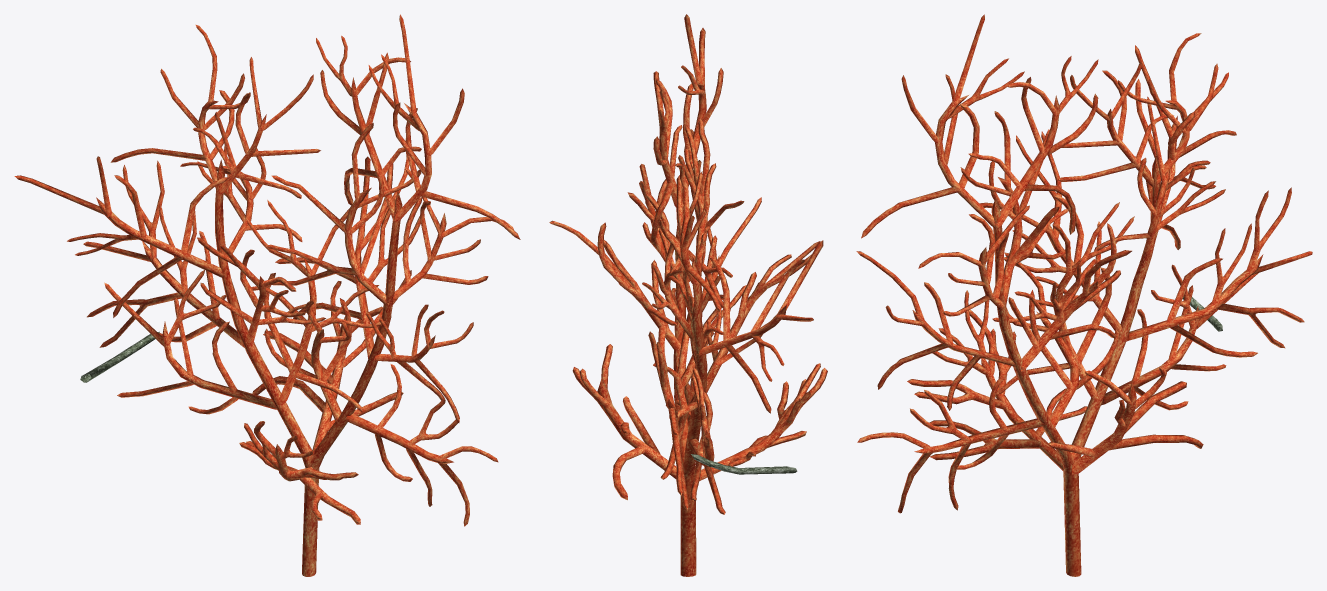
File: FanCoralCluster.010_FBX_still.fbx
The picture shows the model from 3 angles, left to right: view 1: azimuth 30°, elevation 25°; view 2: azimuth 150°, elevation 25°; view 3: azimuth 270°, elevation 25°; orthographic projection. The views are drawn at different scales.
Visible parts, largest first — view 1: FanCoralCluster.010_gameasset; view 2: FanCoralCluster.010_gameasset; view 3: FanCoralCluster.010_gameasset.
Boxes of the visible parts, left/top/right/bottom form: FanCoralCluster.010_gameasset: left=14, top=14, right=520, bottom=576; FanCoralCluster.010_gameasset: left=549, top=14, right=827, bottom=576; FanCoralCluster.010_gameasset: left=856, top=14, right=1312, bottom=576.
Size of the model in its own units: 2.98 by 4.77 by 3.39.
Materials: 2 (2 with a texture image).
